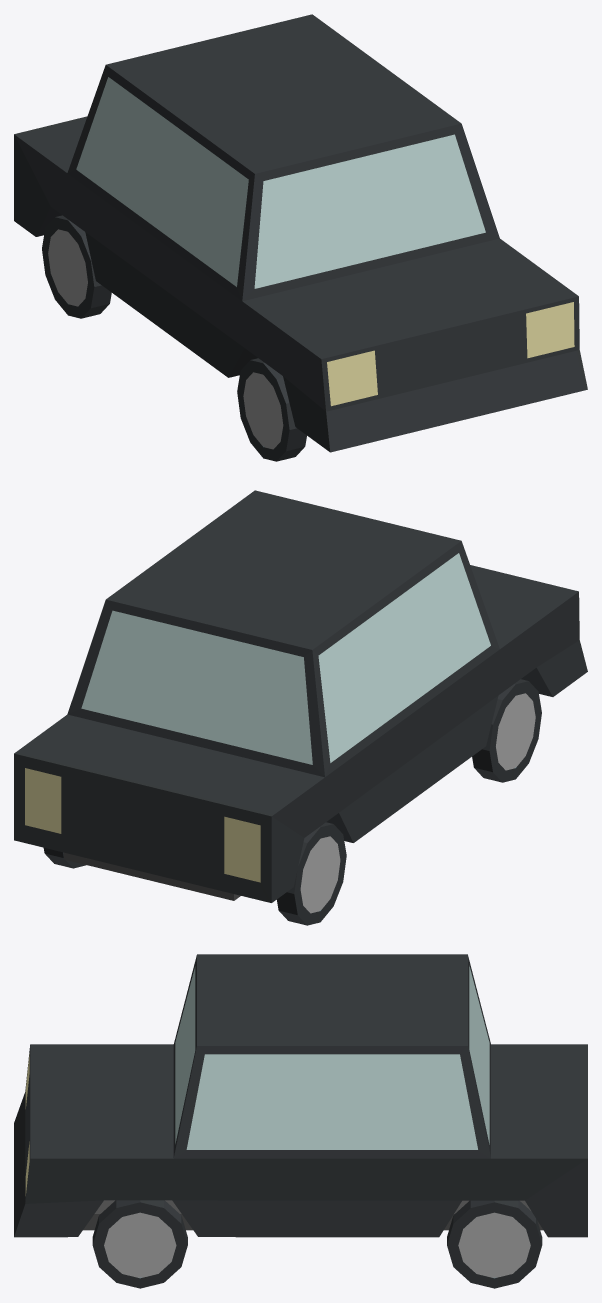
The model's file is Uber.FBX.
3 views of the same model, one above another, from view 1: azimuth 30°, elevation 25°; view 2: azimuth 150°, elevation 25°; view 3: azimuth 270°, elevation 25° (orthographic). The views are drawn at different scales.
Parts seen in each view (by area): view 1: Uber; view 2: Uber; view 3: Uber.
Part boxes in pixels (x1,y1,x2,y2): Uber: [14, 14, 587, 461]; Uber: [14, 490, 587, 925]; Uber: [14, 954, 587, 1288].
Size of the model in its own units: 59.27 by 56.27 by 126.
